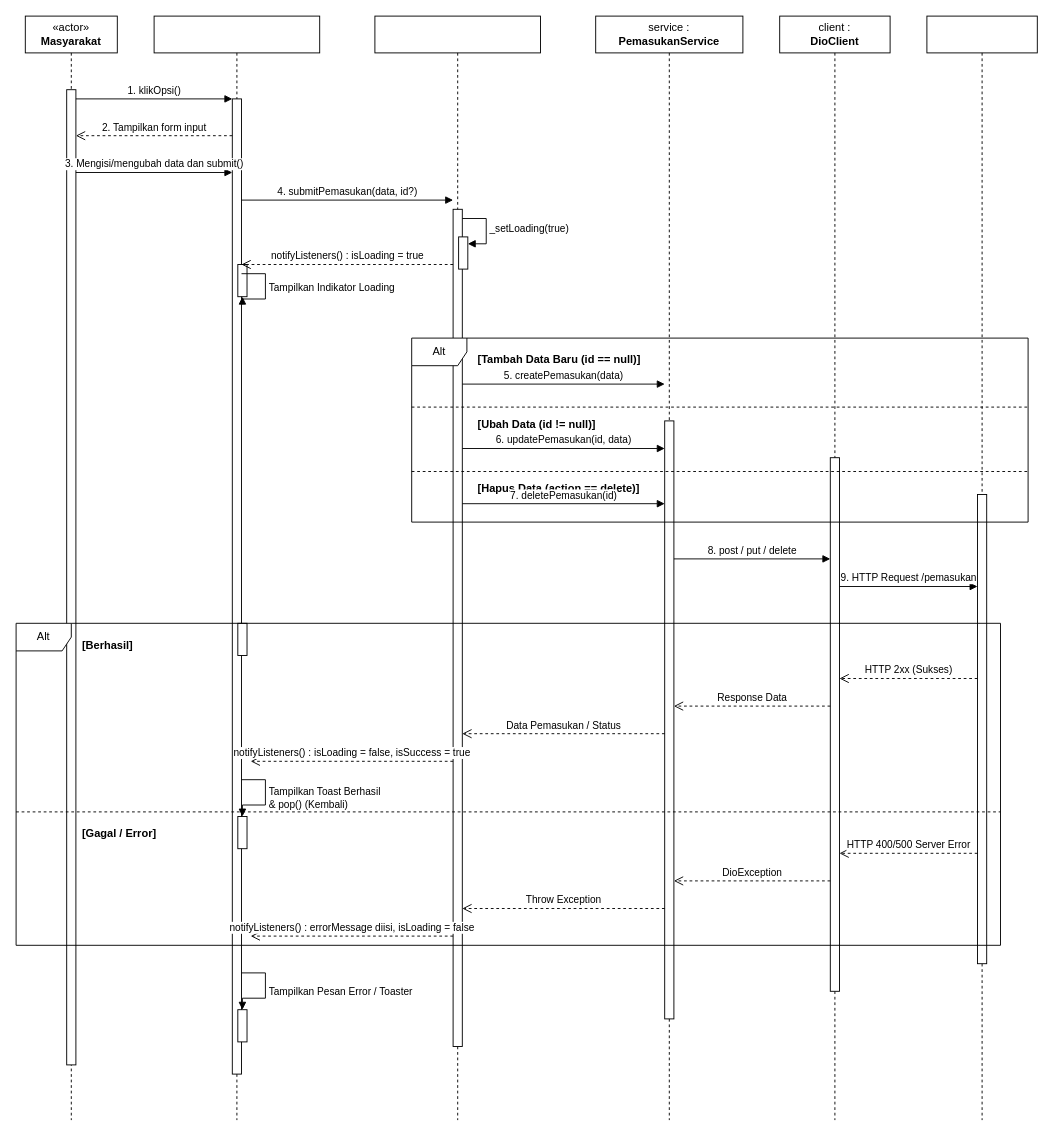
Some shapes in this 1053 by 1136 pixel diagram are drawn without their labels. Here are the shapes that lost their labels. From the top down, the box of each, then its label:
(153, 15, 320, 1120): view : PemasukanFormPage
(374, 15, 540, 1120): viewModel : PemasukanViewModel
(926, 15, 1037, 1120): «actor» Web Service
